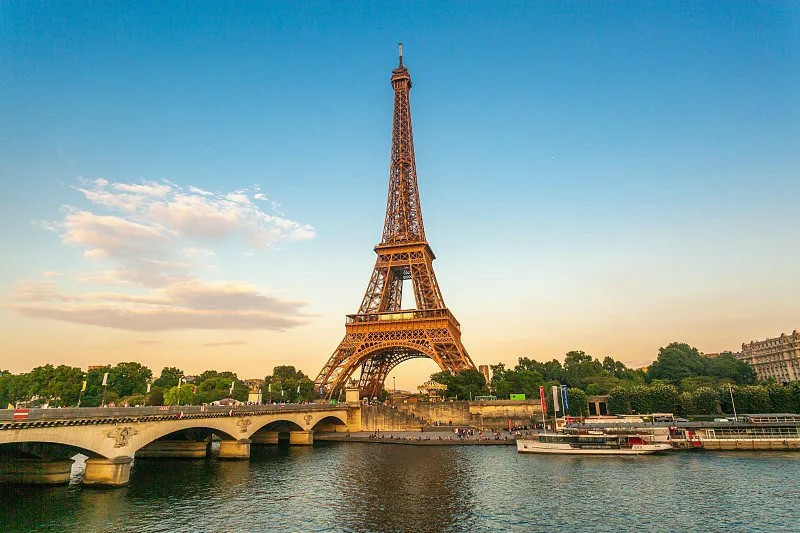Eiffel: (313, 42, 478, 396)
